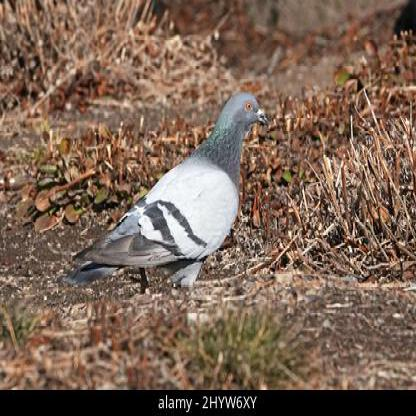Rock Pigeon: (74, 92, 268, 284)
